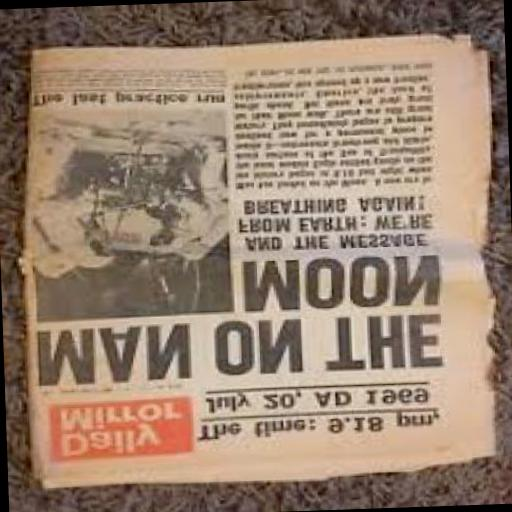paper: (16, 38, 496, 490)
